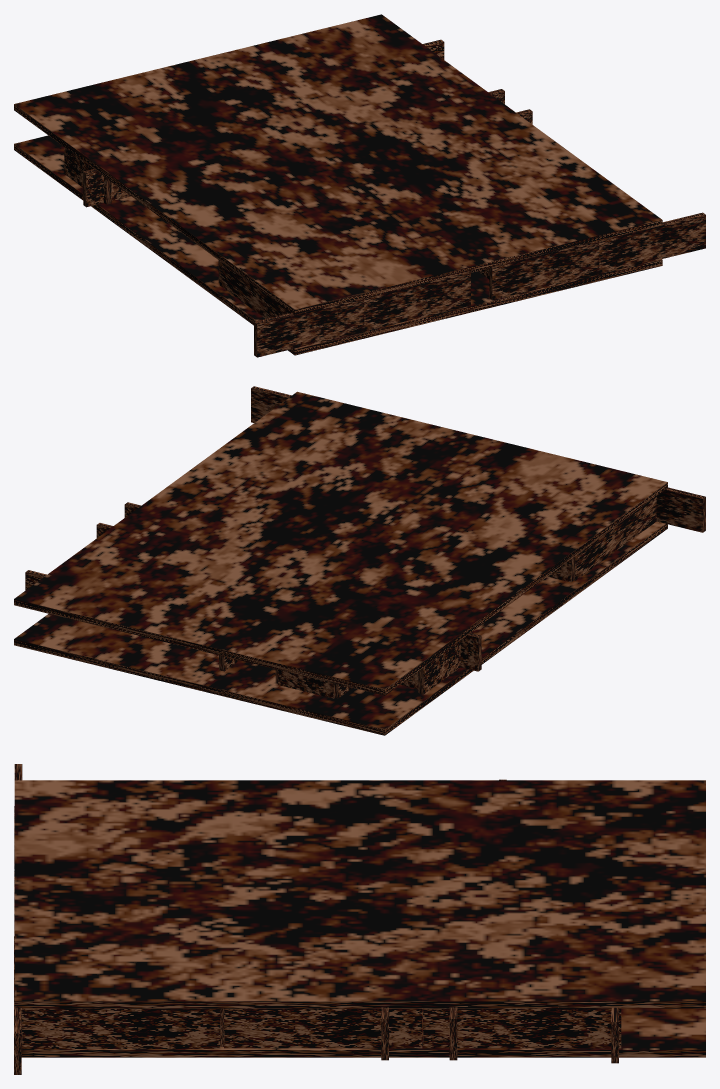
The model's file is Stage2.fbx.
3 renders of one model, top to bottom at view 1: azimuth 30°, elevation 25°; view 2: azimuth 150°, elevation 25°; view 3: azimuth 270°, elevation 25°, orthographic. The views are drawn at different scales.
Visible parts, largest first — view 1: Foor(2), Foor, Cube.007, Cube.006, Cube.001, Cube.005, Cube.030, Cube.042, Cube.035; view 2: Foor(2), Foor, Cube.030, Cube.007, Cube.035, Cube.004, Cube.001, Cube.042; view 3: Foor(2), Foor, Cube.029, Cube.034, Cube.036, Cube.001.
Boxes of the visible parts, x1=… form: Foor(2): x1=14, y1=14, x2=662, y2=314; Foor: x1=14, y1=135, x2=662, y2=355; Cube.007: x1=254, y1=298, x2=364, y2=357; Cube.006: x1=489, y1=240, x2=599, y2=300; Cube.001: x1=599, y1=212, x2=705, y2=274; Cube.005: x1=364, y1=272, x2=470, y2=331; Cube.030: x1=219, y1=261, x2=290, y2=318; Cube.042: x1=83, y1=168, x2=130, y2=207; Cube.035: x1=64, y1=147, x2=111, y2=204; Foor(2): x1=14, y1=391, x2=667, y2=695; Foor: x1=14, y1=521, x2=667, y2=735; Cube.030: x1=573, y1=497, x2=656, y2=580; Cube.007: x1=656, y1=487, x2=705, y2=532; Cube.035: x1=418, y1=640, x2=460, y2=694; Cube.004: x1=278, y1=669, x2=334, y2=698; Cube.001: x1=251, y1=386, x2=291, y2=422; Cube.042: x1=460, y1=633, x2=481, y2=671; Foor(2): x1=14, y1=780, x2=705, y2=1008; Foor: x1=21, y1=1008, x2=705, y2=1057; Cube.029: x1=22, y1=1008, x2=220, y2=1048; Cube.034: x1=224, y1=1008, x2=422, y2=1048; Cube.036: x1=423, y1=1008, x2=621, y2=1048; Cube.001: x1=14, y1=969, x2=21, y2=1074.
Size of the model in its own units: 83.87 by 8.2 by 91.05.
52 materials, 52 textured.
